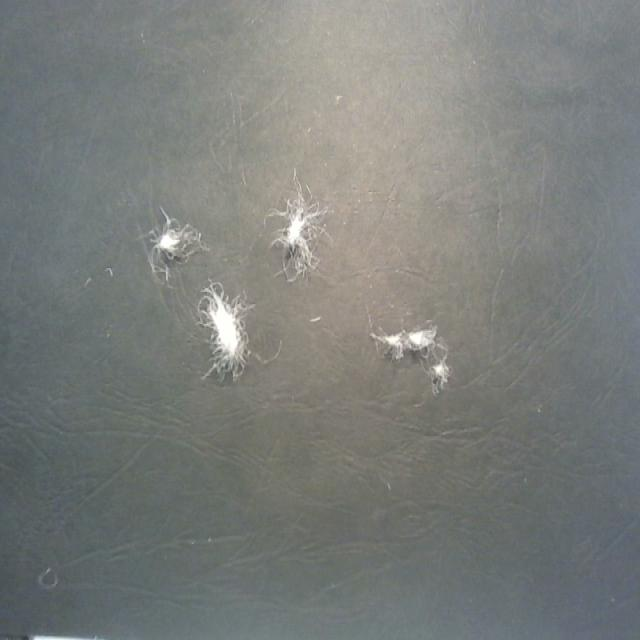feather: (194, 275, 254, 381), (272, 176, 320, 275), (371, 319, 444, 364), (144, 216, 197, 277), (421, 358, 454, 382)
